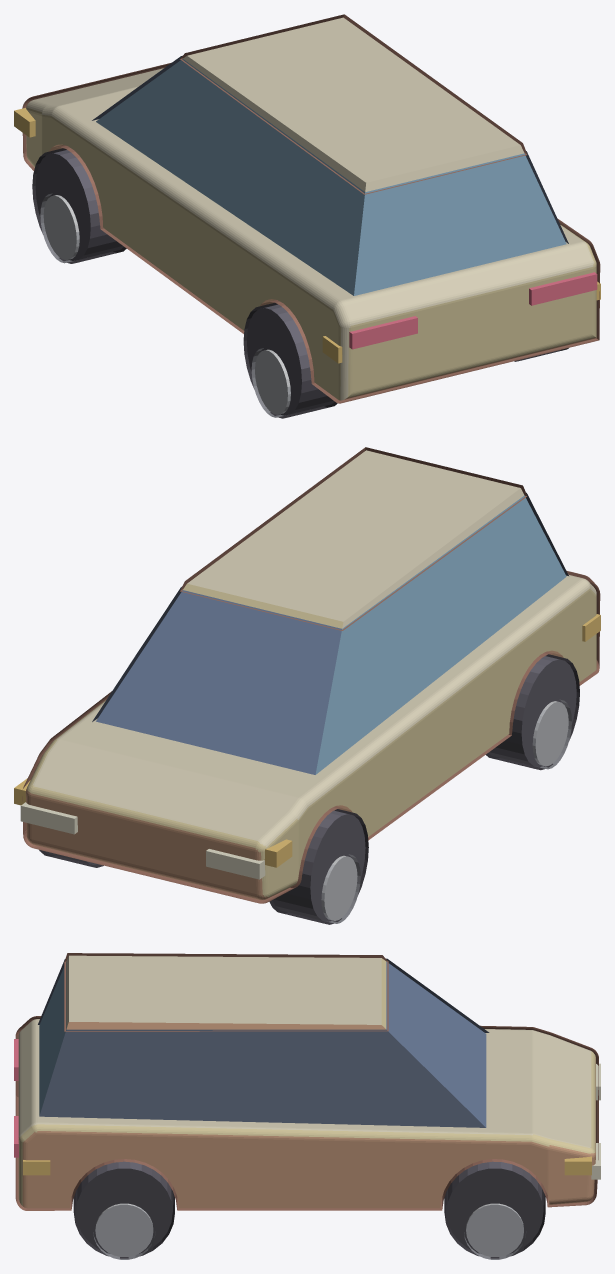
File: traffic_hatch_0.glb
The picture shows the model from 3 angles, top to bottom: view 1: azimuth 30°, elevation 25°; view 2: azimuth 150°, elevation 25°; view 3: azimuth 270°, elevation 25°; orthographic projection. The views are drawn at different scales.
Visible parts, largest first — view 1: car, blink; view 2: car, blink; view 3: car, blink.
Part boxes in pixels (x1,y1,x2,y2): car: (22, 14, 600, 418); blink: (14, 108, 600, 363); car: (20, 447, 600, 924); blink: (14, 614, 600, 867); car: (14, 953, 600, 1259); blink: (23, 1156, 591, 1175).
Bounding box in the file's own units: 1.91 × 1.55 × 3.88.
